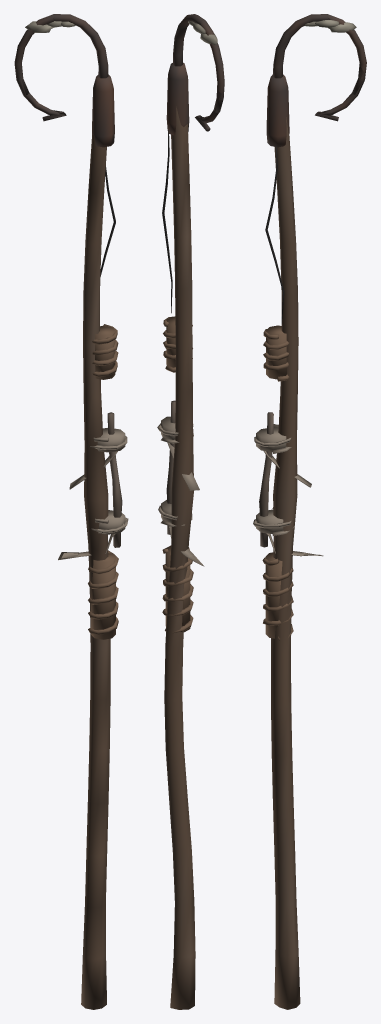
Rendered from wpn_shepherds_crook.glb.
The picture shows the model from 3 angles, left to right: view 1: azimuth 90°, elevation 25°; view 2: azimuth 210°, elevation 25°; view 3: azimuth 270°, elevation 25°; orthographic projection.
Visible parts, largest first — view 1: wpn_shepherds_crook, wpn_shepherds_crook_worn; view 2: wpn_shepherds_crook, wpn_shepherds_crook_worn; view 3: wpn_shepherds_crook, wpn_shepherds_crook_worn.
Boxes of the visible parts, box(x1,y1,x2,y2) form: wpn_shepherds_crook: box(14, 14, 118, 1009); wpn_shepherds_crook_worn: box(16, 18, 128, 560); wpn_shepherds_crook: box(162, 14, 224, 1009); wpn_shepherds_crook_worn: box(157, 20, 223, 566); wpn_shepherds_crook: box(262, 14, 366, 1009); wpn_shepherds_crook_worn: box(253, 14, 365, 556).
Size of what is drawn, in the model's own units: 0.0565 by 1.79 by 0.1871.
